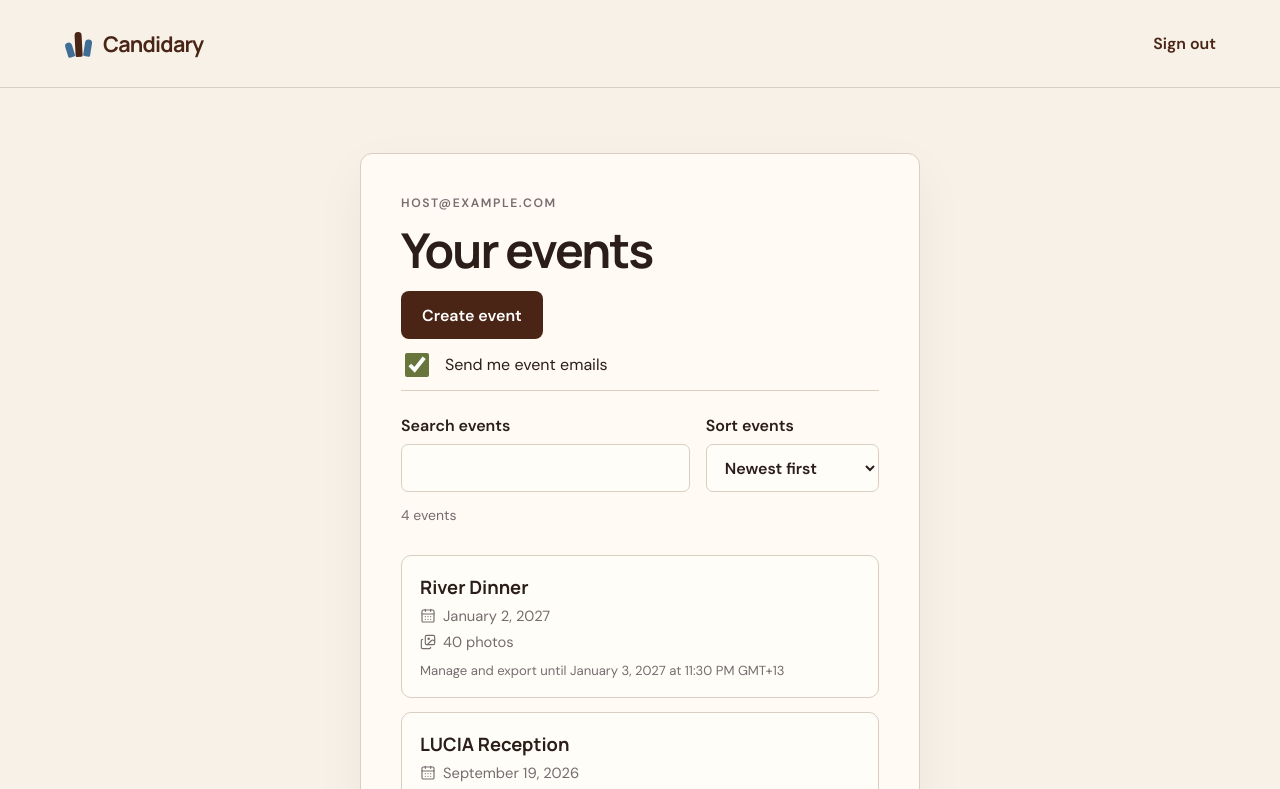
Host Events dashboard › searches loaded names case-insensitively and announces the local result count
Expected: the heading "Your events" is shown, [401,217,652,282]
Expected: the message reads "4 events", [401,506,456,524]
In the search field labelled "Search events": x=545, y=468 [401,444,690,492], type "lucia"
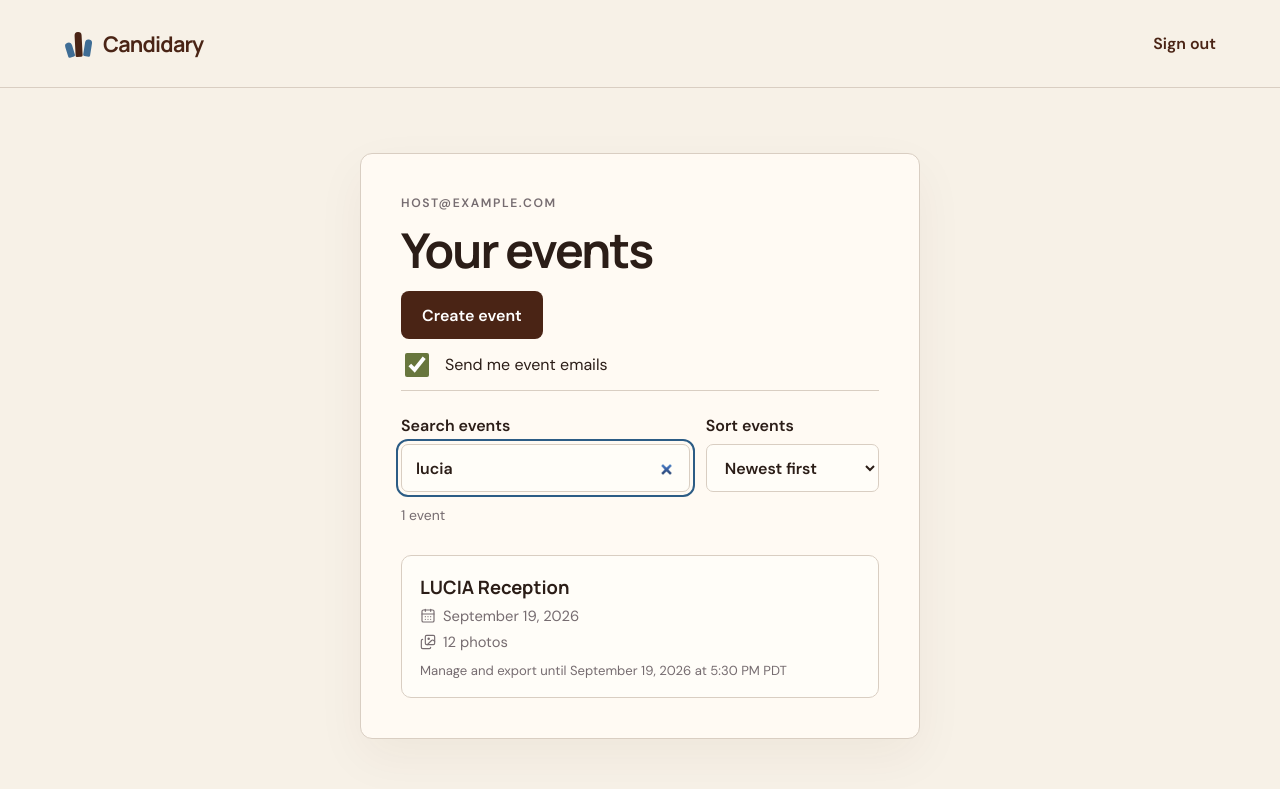
Now the message reads "1 event", box [401,506,445,524]
